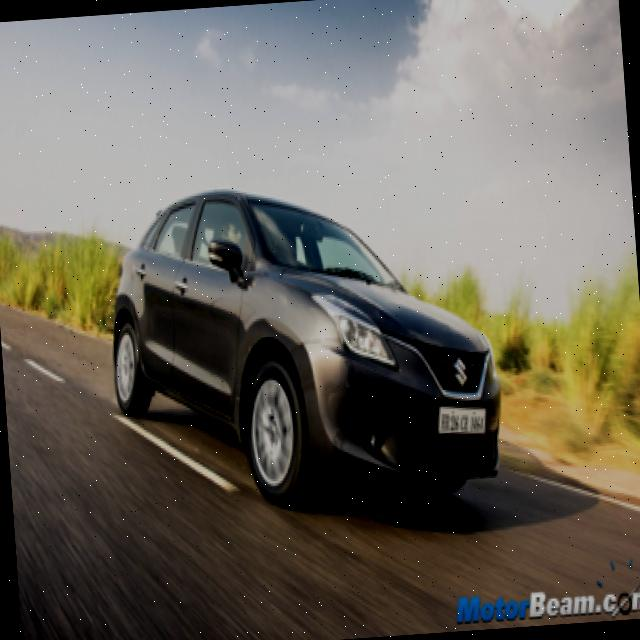Autre: (438, 408, 491, 436)
